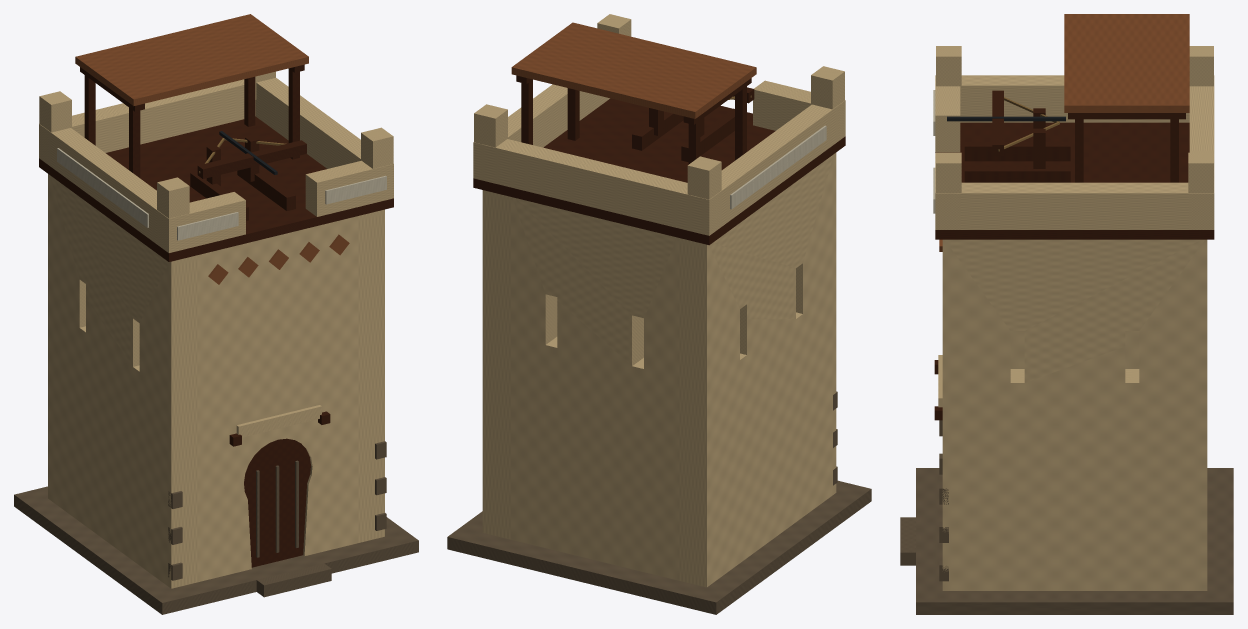
File: Berber_Outpost_Age3_springald.fbx
3 renders of one model, left to right at view 1: azimuth 30°, elevation 25°; view 2: azimuth 150°, elevation 25°; view 3: azimuth 270°, elevation 25°, orthographic. The views are drawn at different scales.
Parts seen in each view (by area): view 1: west_thick_wall, south_thick_wall, lookout_floor, fitted_flat_canopy, tower_foundation, east_thick_wall, lookout_parapet_back, horseshoe_door, lookout_parapet_side, lookout_parapet_side.001, lookout_parapet_front.001, lookout_parapet_front (+15 smaller); view 2: north_thick_wall, west_thick_wall, fitted_flat_canopy, tower_foundation, lookout_parapet_back, lookout_floor, east_thick_wall, lookout_parapet_side, lookout_parapet_side.001, lookout_parapet_front, neutral_owner_side_band, corner_merlon.001 (+7 smaller); view 3: east_thick_wall, tower_foundation, fitted_flat_canopy, lookout_floor, lookout_parapet_side.001, lookout_parapet_side, lookout_parapet_back, springald_stock_runner.001, springald_stock_runner, lookout_parapet_front, west_thick_wall, corner_merlon (+11 smaller).
Part boxes in pixels (box(x1,y1,x2,y2)): west_thick_wall: box(48, 174, 198, 588); south_thick_wall: box(198, 216, 357, 581); lookout_floor: box(39, 116, 393, 261); fitted_flat_canopy: box(75, 14, 308, 105); tower_foundation: box(14, 486, 418, 614); east_thick_wall: box(358, 209, 384, 542); lookout_parapet_back: box(39, 79, 255, 165); horseshoe_door: box(244, 438, 310, 567); lookout_parapet_side: box(50, 128, 162, 244); lookout_parapet_side.001: box(255, 78, 360, 168); lookout_parapet_front.001: box(305, 160, 393, 216); lookout_parapet_front: box(157, 192, 245, 252); north_thick_wall: box(511, 197, 678, 580); west_thick_wall: box(678, 153, 836, 587); fitted_flat_canopy: box(511, 22, 756, 118); tower_foundation: box(447, 480, 871, 614); lookout_parapet_back: box(473, 139, 721, 235); lookout_floor: box(473, 98, 845, 245); east_thick_wall: box(482, 190, 511, 539); lookout_parapet_side: box(715, 104, 839, 226); lookout_parapet_side.001: box(508, 84, 609, 147); lookout_parapet_front: box(753, 80, 845, 139); neutral_owner_side_band: box(730, 125, 826, 209); corner_merlon.001: box(687, 156, 721, 199); east_thick_wall: box(942, 239, 1207, 590); tower_foundation: box(916, 468, 1233, 614); fitted_flat_canopy: box(1064, 14, 1189, 112); lookout_floor: box(935, 122, 1214, 239); lookout_parapet_side.001: box(948, 182, 1201, 229); lookout_parapet_side: box(960, 75, 1189, 122); lookout_parapet_back: box(1189, 75, 1214, 229); springald_stock_runner.001: box(964, 166, 1070, 182); springald_stock_runner: box(964, 142, 1070, 161); lookout_parapet_front: box(935, 75, 960, 152); west_thick_wall: box(1010, 331, 1139, 368); corner_merlon: box(936, 46, 961, 104).
Size of the model in its own units: 360 by 610 by 378.
7 materials, 7 textured.
